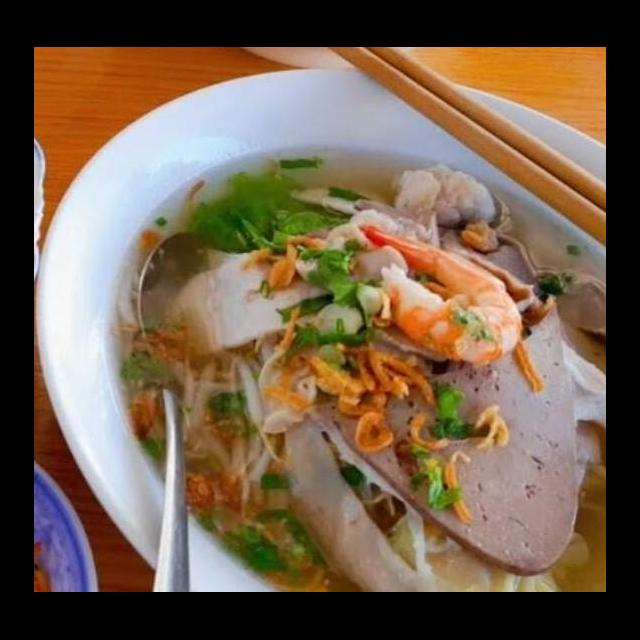gan: (315, 290, 586, 582)
thit heo: (160, 235, 366, 356)
tom: (347, 218, 530, 372)
